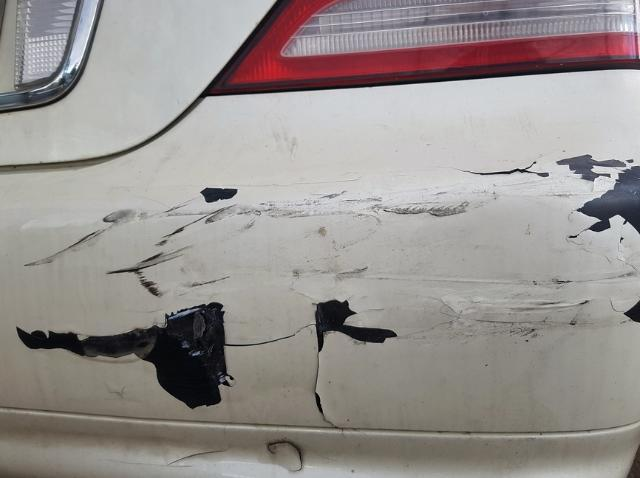Bumper: (0, 136, 640, 473)
